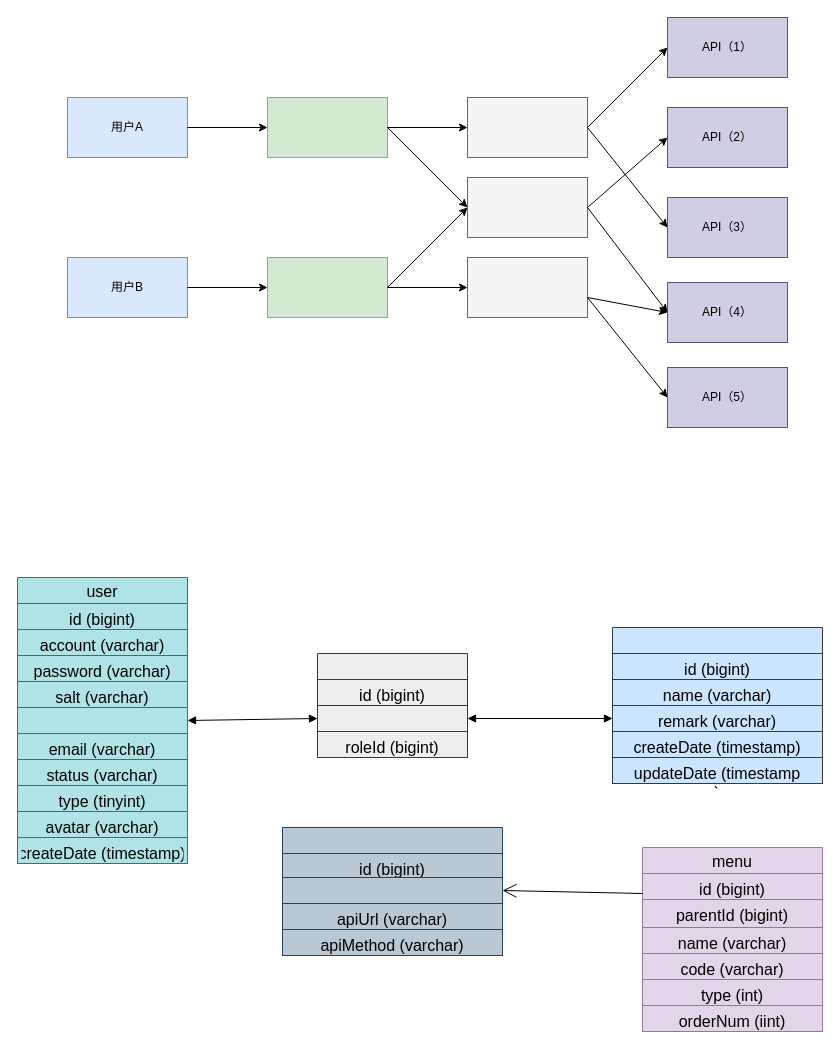
This 840x1052 diagram has some shape labels left out. The box of each missing label's shape, as (x1, y1, x2, y2) in pixels:
menu-perm: (282, 826, 502, 956)
menuId (bigint): (282, 876, 502, 904)
phoneNum (varchar): (16, 706, 188, 734)
role: (612, 626, 822, 784)
user-role: (316, 652, 468, 758)
userId (bigint): (316, 704, 468, 732)
菜单A: (466, 96, 588, 158)
菜单B: (466, 256, 588, 318)
菜单C: (466, 176, 588, 238)
角色A: (266, 96, 388, 158)
角色B: (266, 256, 388, 318)
